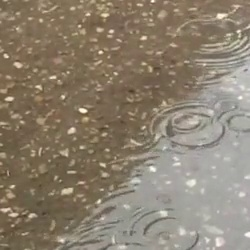drop: (149, 100, 228, 153), (131, 206, 199, 250), (174, 15, 246, 53), (220, 110, 250, 135), (173, 114, 203, 133), (213, 99, 239, 116)
